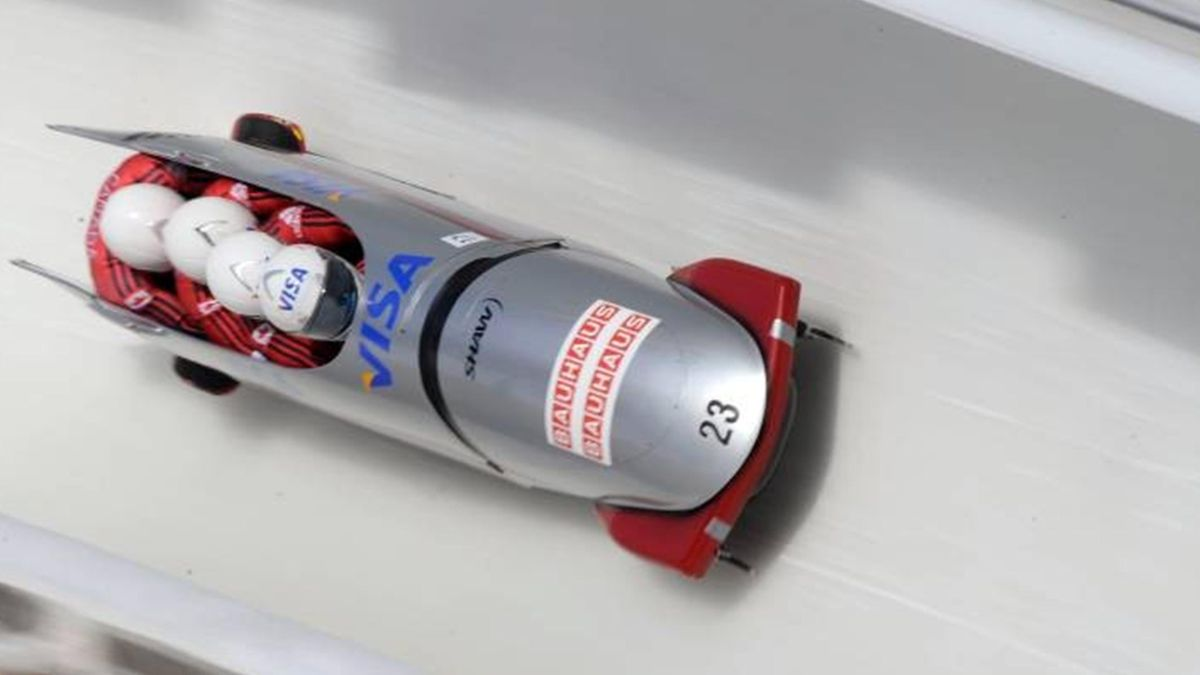Bobsleigh: (14, 120, 803, 571)
